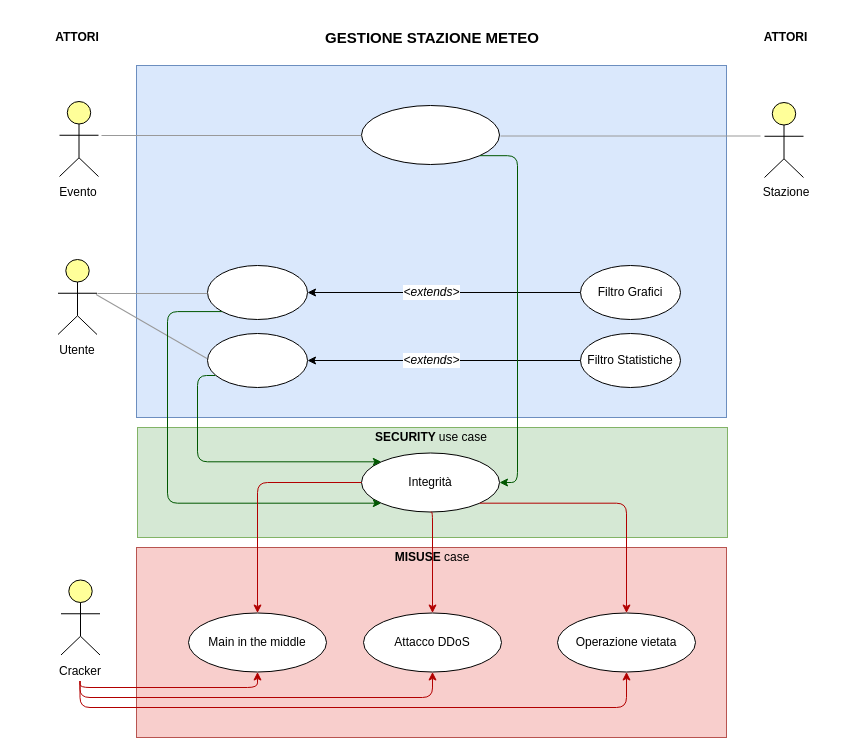
Image size: 861x755. Some labels were removed from this diagram. The centre of each missing label's shape, as x and y in pixels:
Gestione Evento: point 430,134
Statisctiche: point 257,360
Storico: point 257,292
